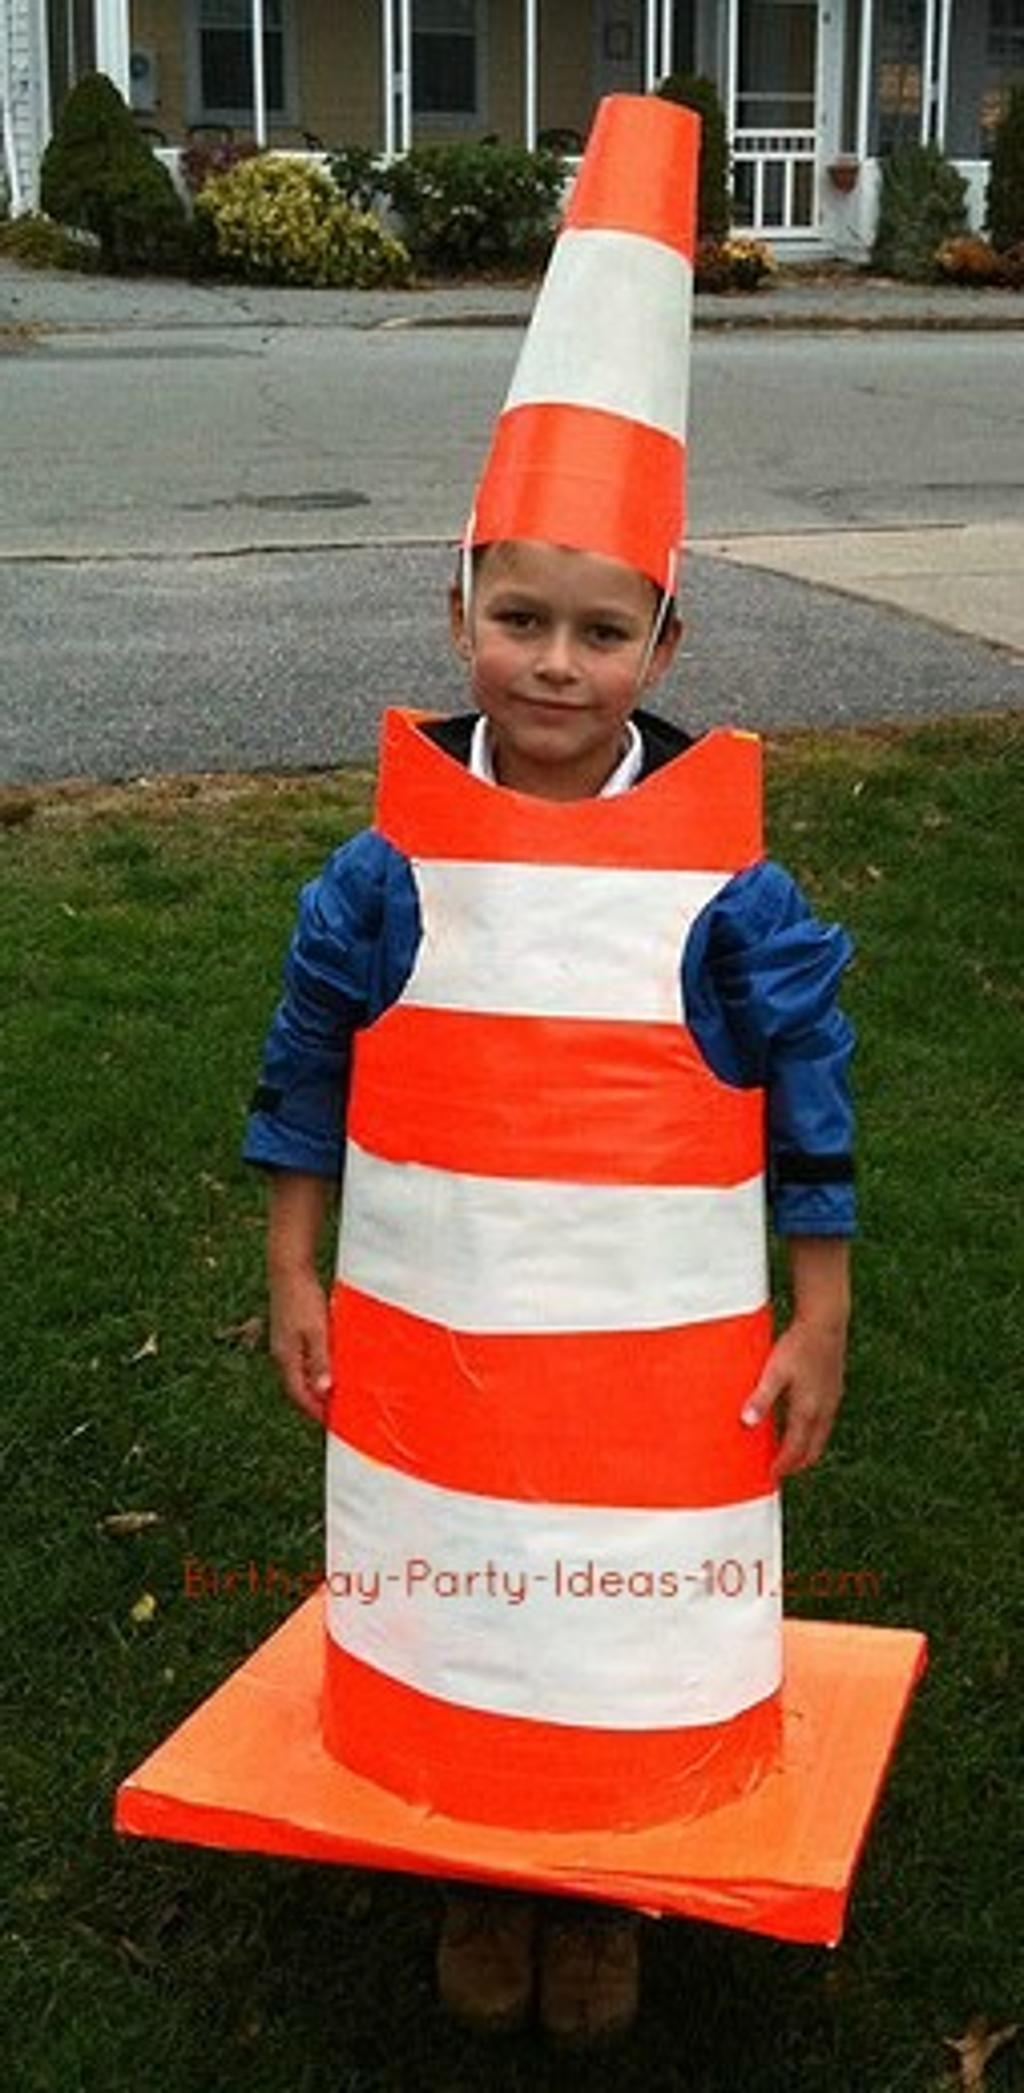face: (478, 523, 645, 756)
